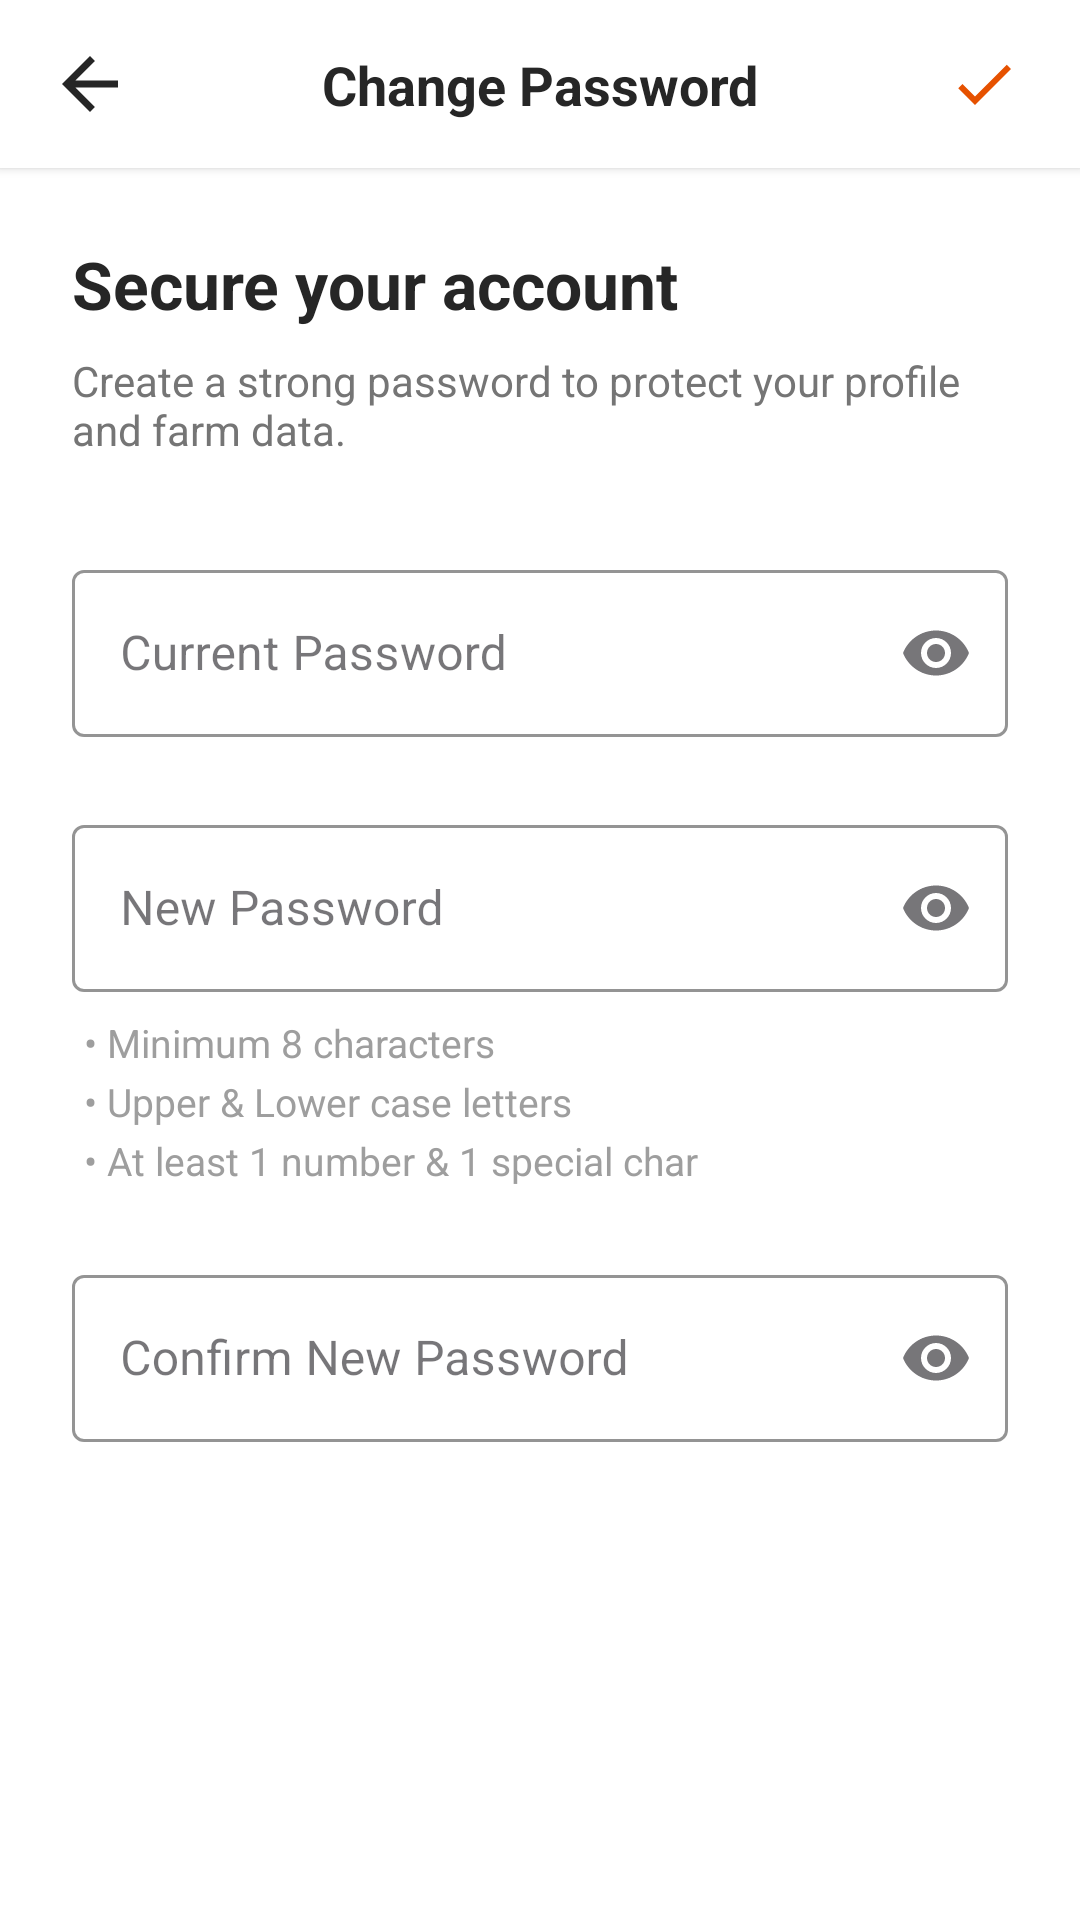

Icons on this 1080*1920 Android screen, each with the point to tap as (x=x, y=y):
arrow: (x=90, y=84)
check: (x=984, y=85)
